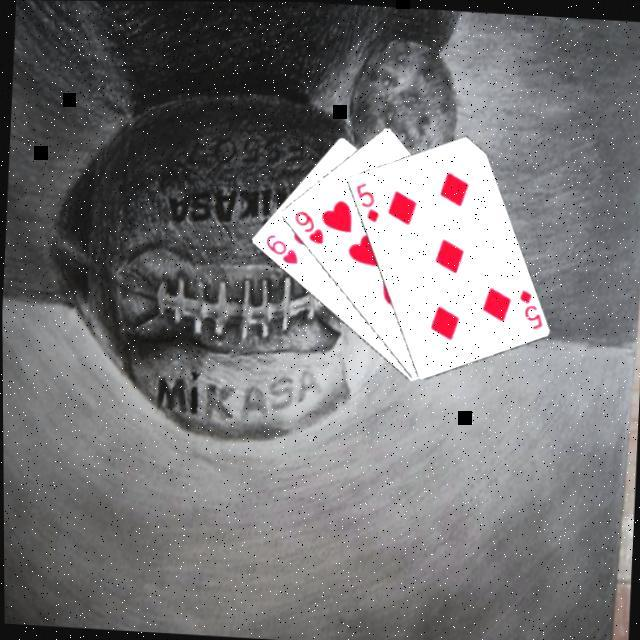5D: (352, 176, 384, 224), (516, 282, 548, 330)
6H: (262, 228, 304, 266)
9H: (292, 204, 330, 246)
